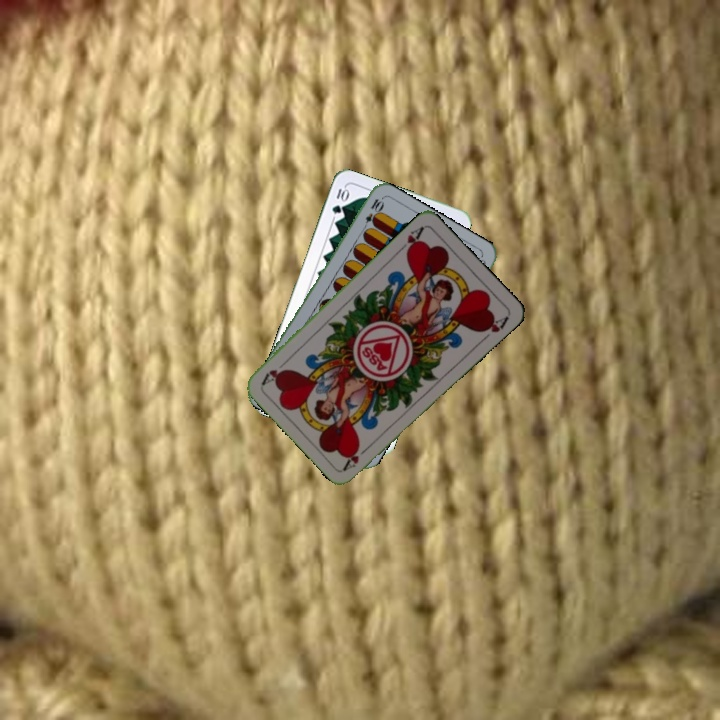E10: (358, 195, 385, 233)
G10: (328, 183, 351, 216)
HA: (394, 222, 426, 257), (339, 441, 373, 472)
